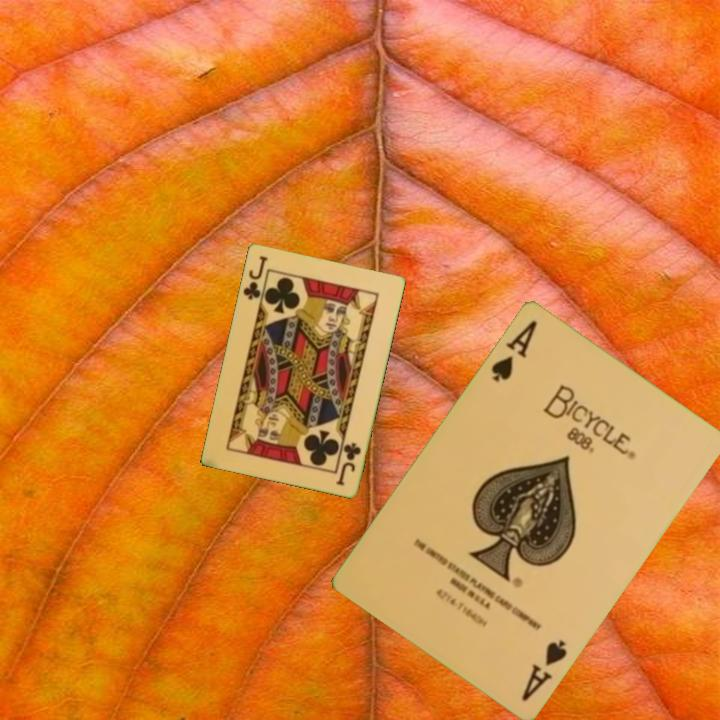As: (487, 316, 540, 385), (517, 635, 570, 704)
Jc: (239, 252, 271, 302), (333, 439, 364, 488)
